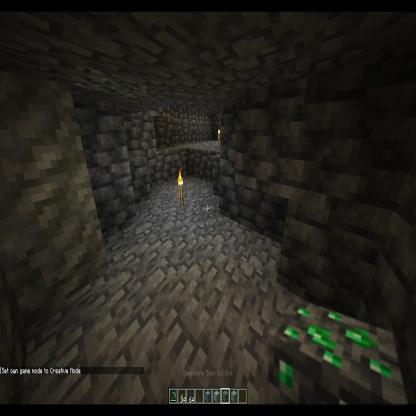emerald ore: (266, 297, 408, 416)
